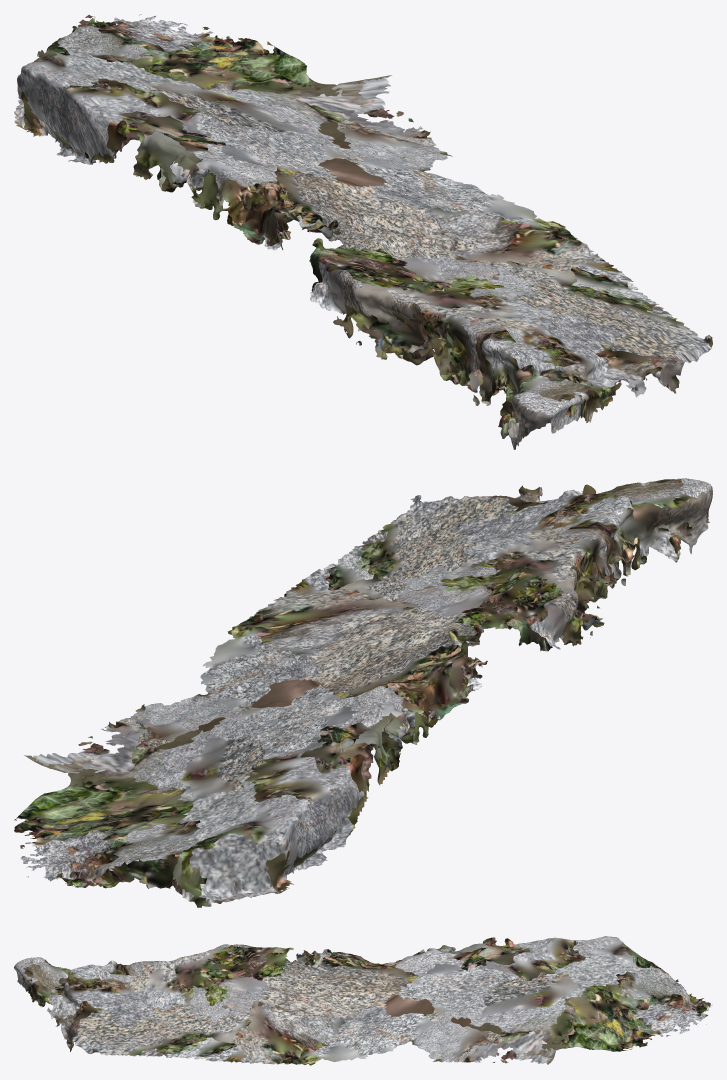
Rendered from cleaned.fbx.
3 renders of one model, top to bottom at view 1: azimuth 30°, elevation 25°; view 2: azimuth 150°, elevation 25°; view 3: azimuth 270°, elevation 25°, orthographic. The views are drawn at different scales.
Visible parts, largest first — view 1: nodes[0]; view 2: nodes[0]; view 3: nodes[0].
Part boxes in pixels (box(x1,y1,x2,y2)): nodes[0]: box(14, 14, 712, 449); nodes[0]: box(14, 478, 712, 907); nodes[0]: box(14, 936, 711, 1065).
Size of the model in its own units: 87.07 by 19.76 by 256.
